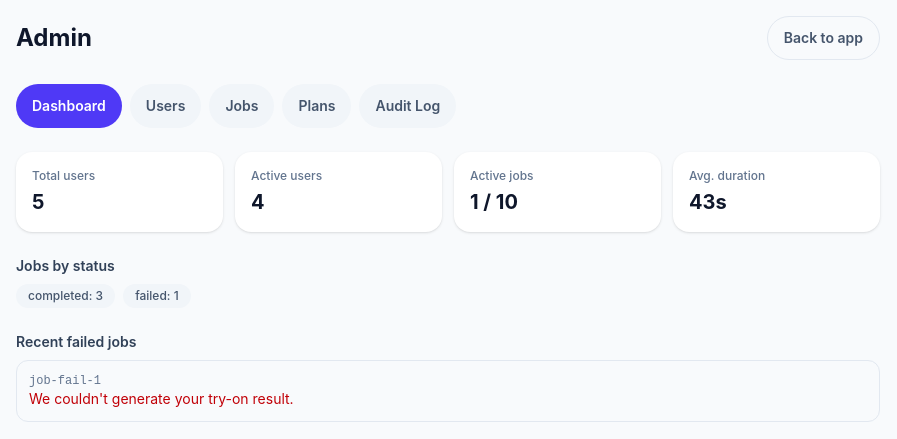
Scenario: AdminScreen — users tab › shows an empty state when there are no users
The width and height of the screenshot is (897, 439).
Click the button "users".
click(166, 106)  # box top-left (130, 84), bottom-right (201, 128)
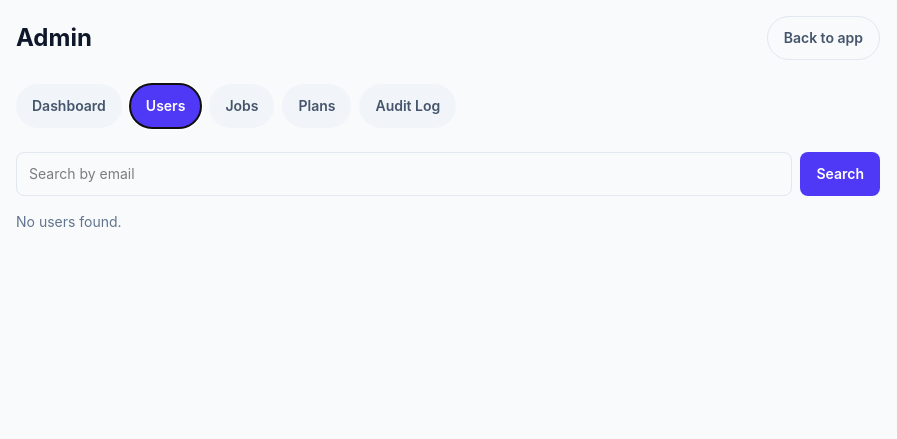
Check: the text "No users found." is shown, box top-left (16, 213), bottom-right (122, 230)
